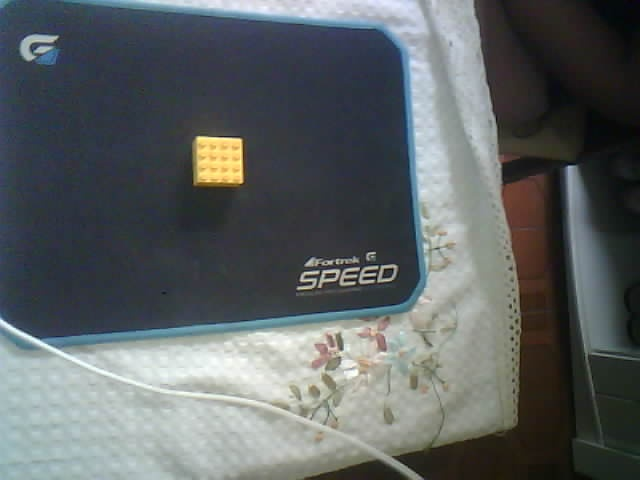lego: (190, 135, 244, 189)
